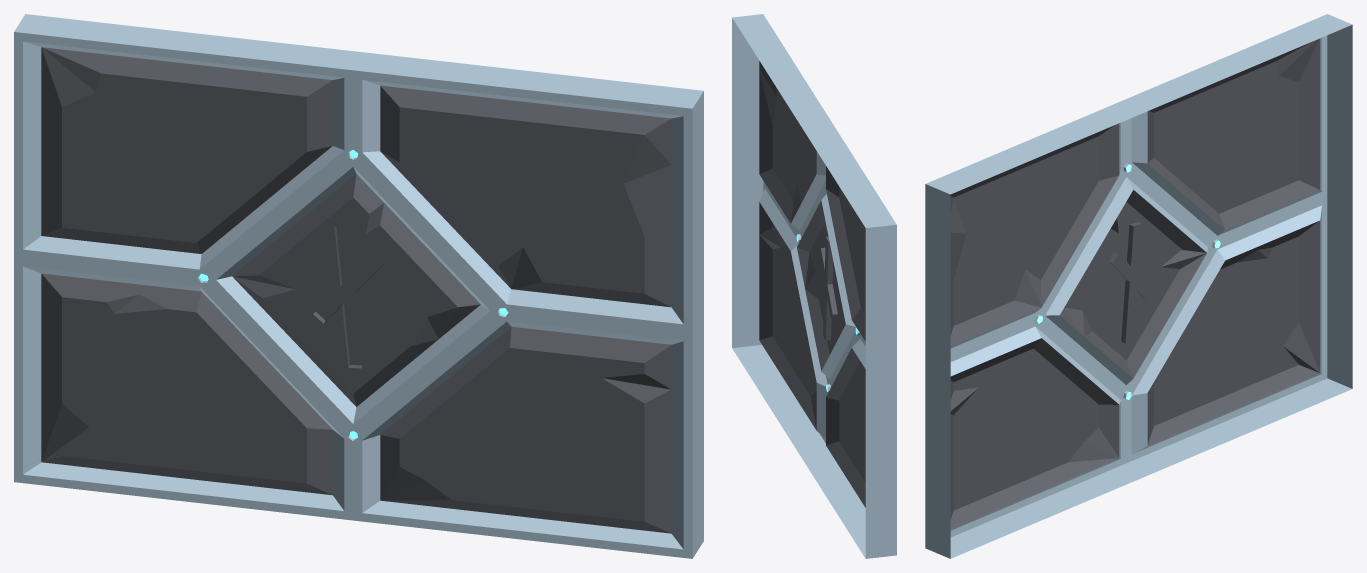
File: Wall_Large_45.fbx
3 views of the same model, side by side, from view 1: azimuth 30°, elevation 25°; view 2: azimuth 150°, elevation 25°; view 3: azimuth 270°, elevation 25° (orthographic). The views are drawn at different scales.
Parts seen in each view (by area): view 1: Wall_Large_45; view 2: Wall_Large_45; view 3: Wall_Large_45.
Boxes of the visible parts, bbox=[...] form: Wall_Large_45: bbox=[14, 14, 703, 558]; Wall_Large_45: bbox=[732, 14, 896, 558]; Wall_Large_45: bbox=[925, 14, 1352, 558].
Bounding box in the file's own units: 17 × 16 × 17.
